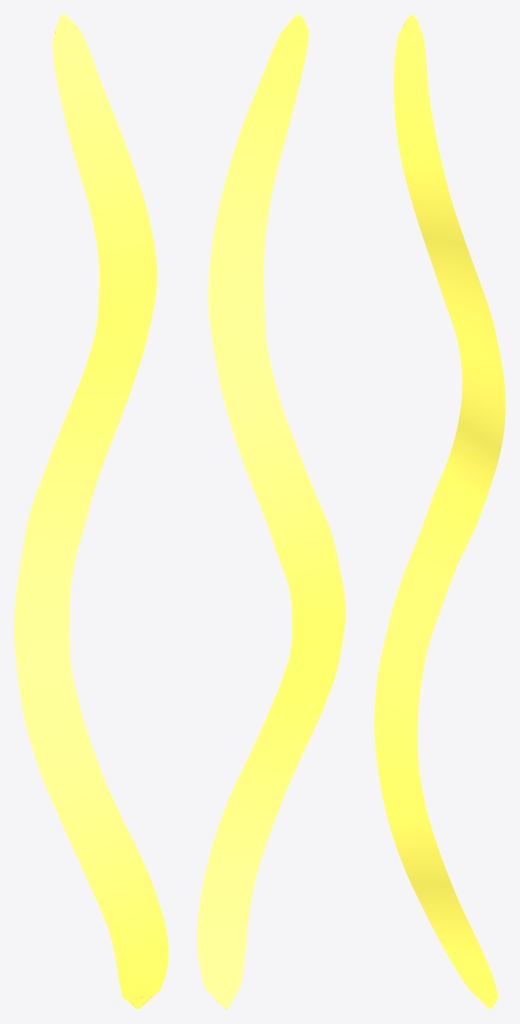
The model's file is Fusili.002.gltf.
3 views of the same model, side by side, from view 1: azimuth 30°, elevation 25°; view 2: azimuth 210°, elevation 25°; view 3: azimuth 330°, elevation 25° (orthographic). The views are drawn at different scales.
Parts seen in each view (by area): view 1: Fusili.002; view 2: Fusili.002; view 3: Fusili.002.
Boxes of the visible parts, x1,y1,x2,y2 form: Fusili.002: (14, 14, 168, 1009); Fusili.002: (197, 14, 345, 1009); Fusili.002: (374, 14, 505, 1009).
Bounding box in the file's own units: 0.8161 × 6.01 × 0.574.
